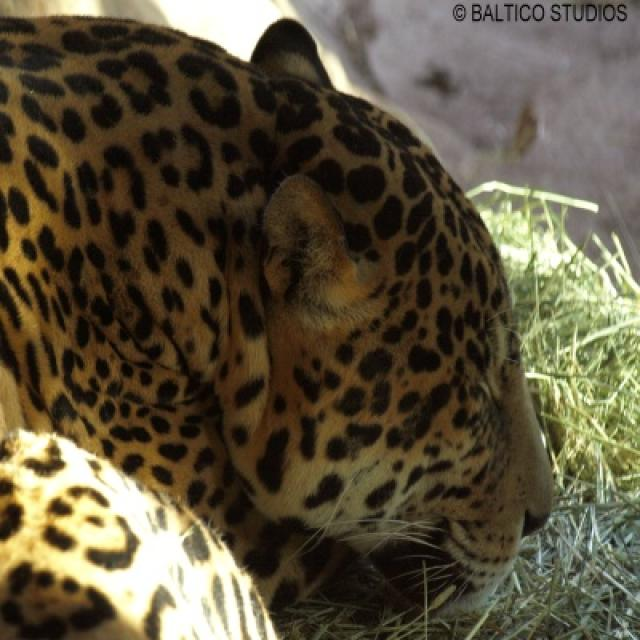Jaguar: (0, 14, 558, 638)
